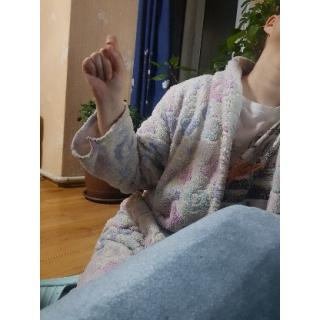FAA: (80, 31, 132, 105)
